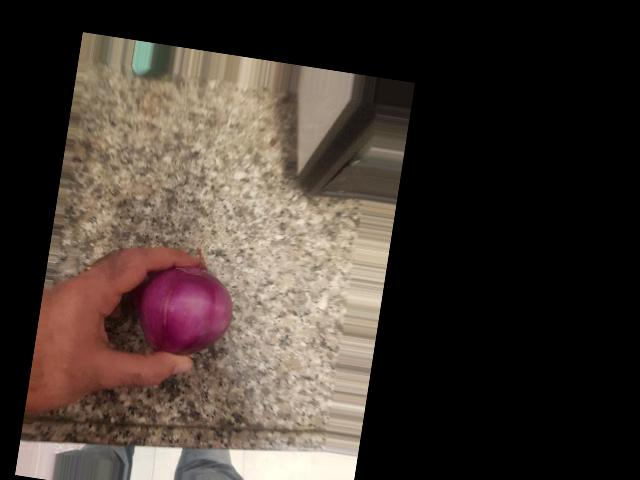onion: (246, 205, 342, 300)
